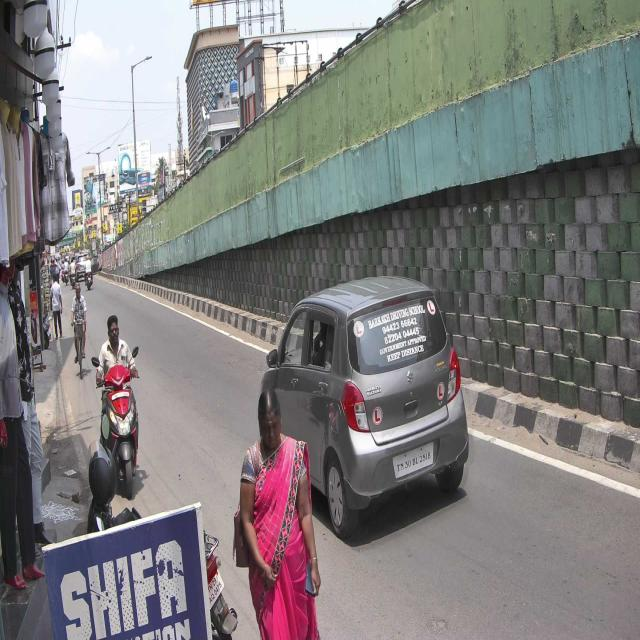single_rider: (93, 309, 142, 502)
